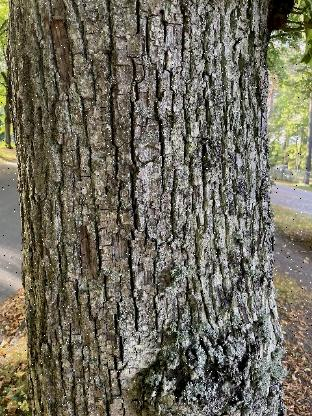tree: (2, 0, 294, 416)
